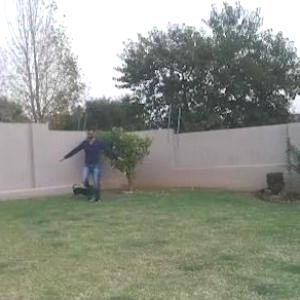land: (54, 121, 128, 211)
